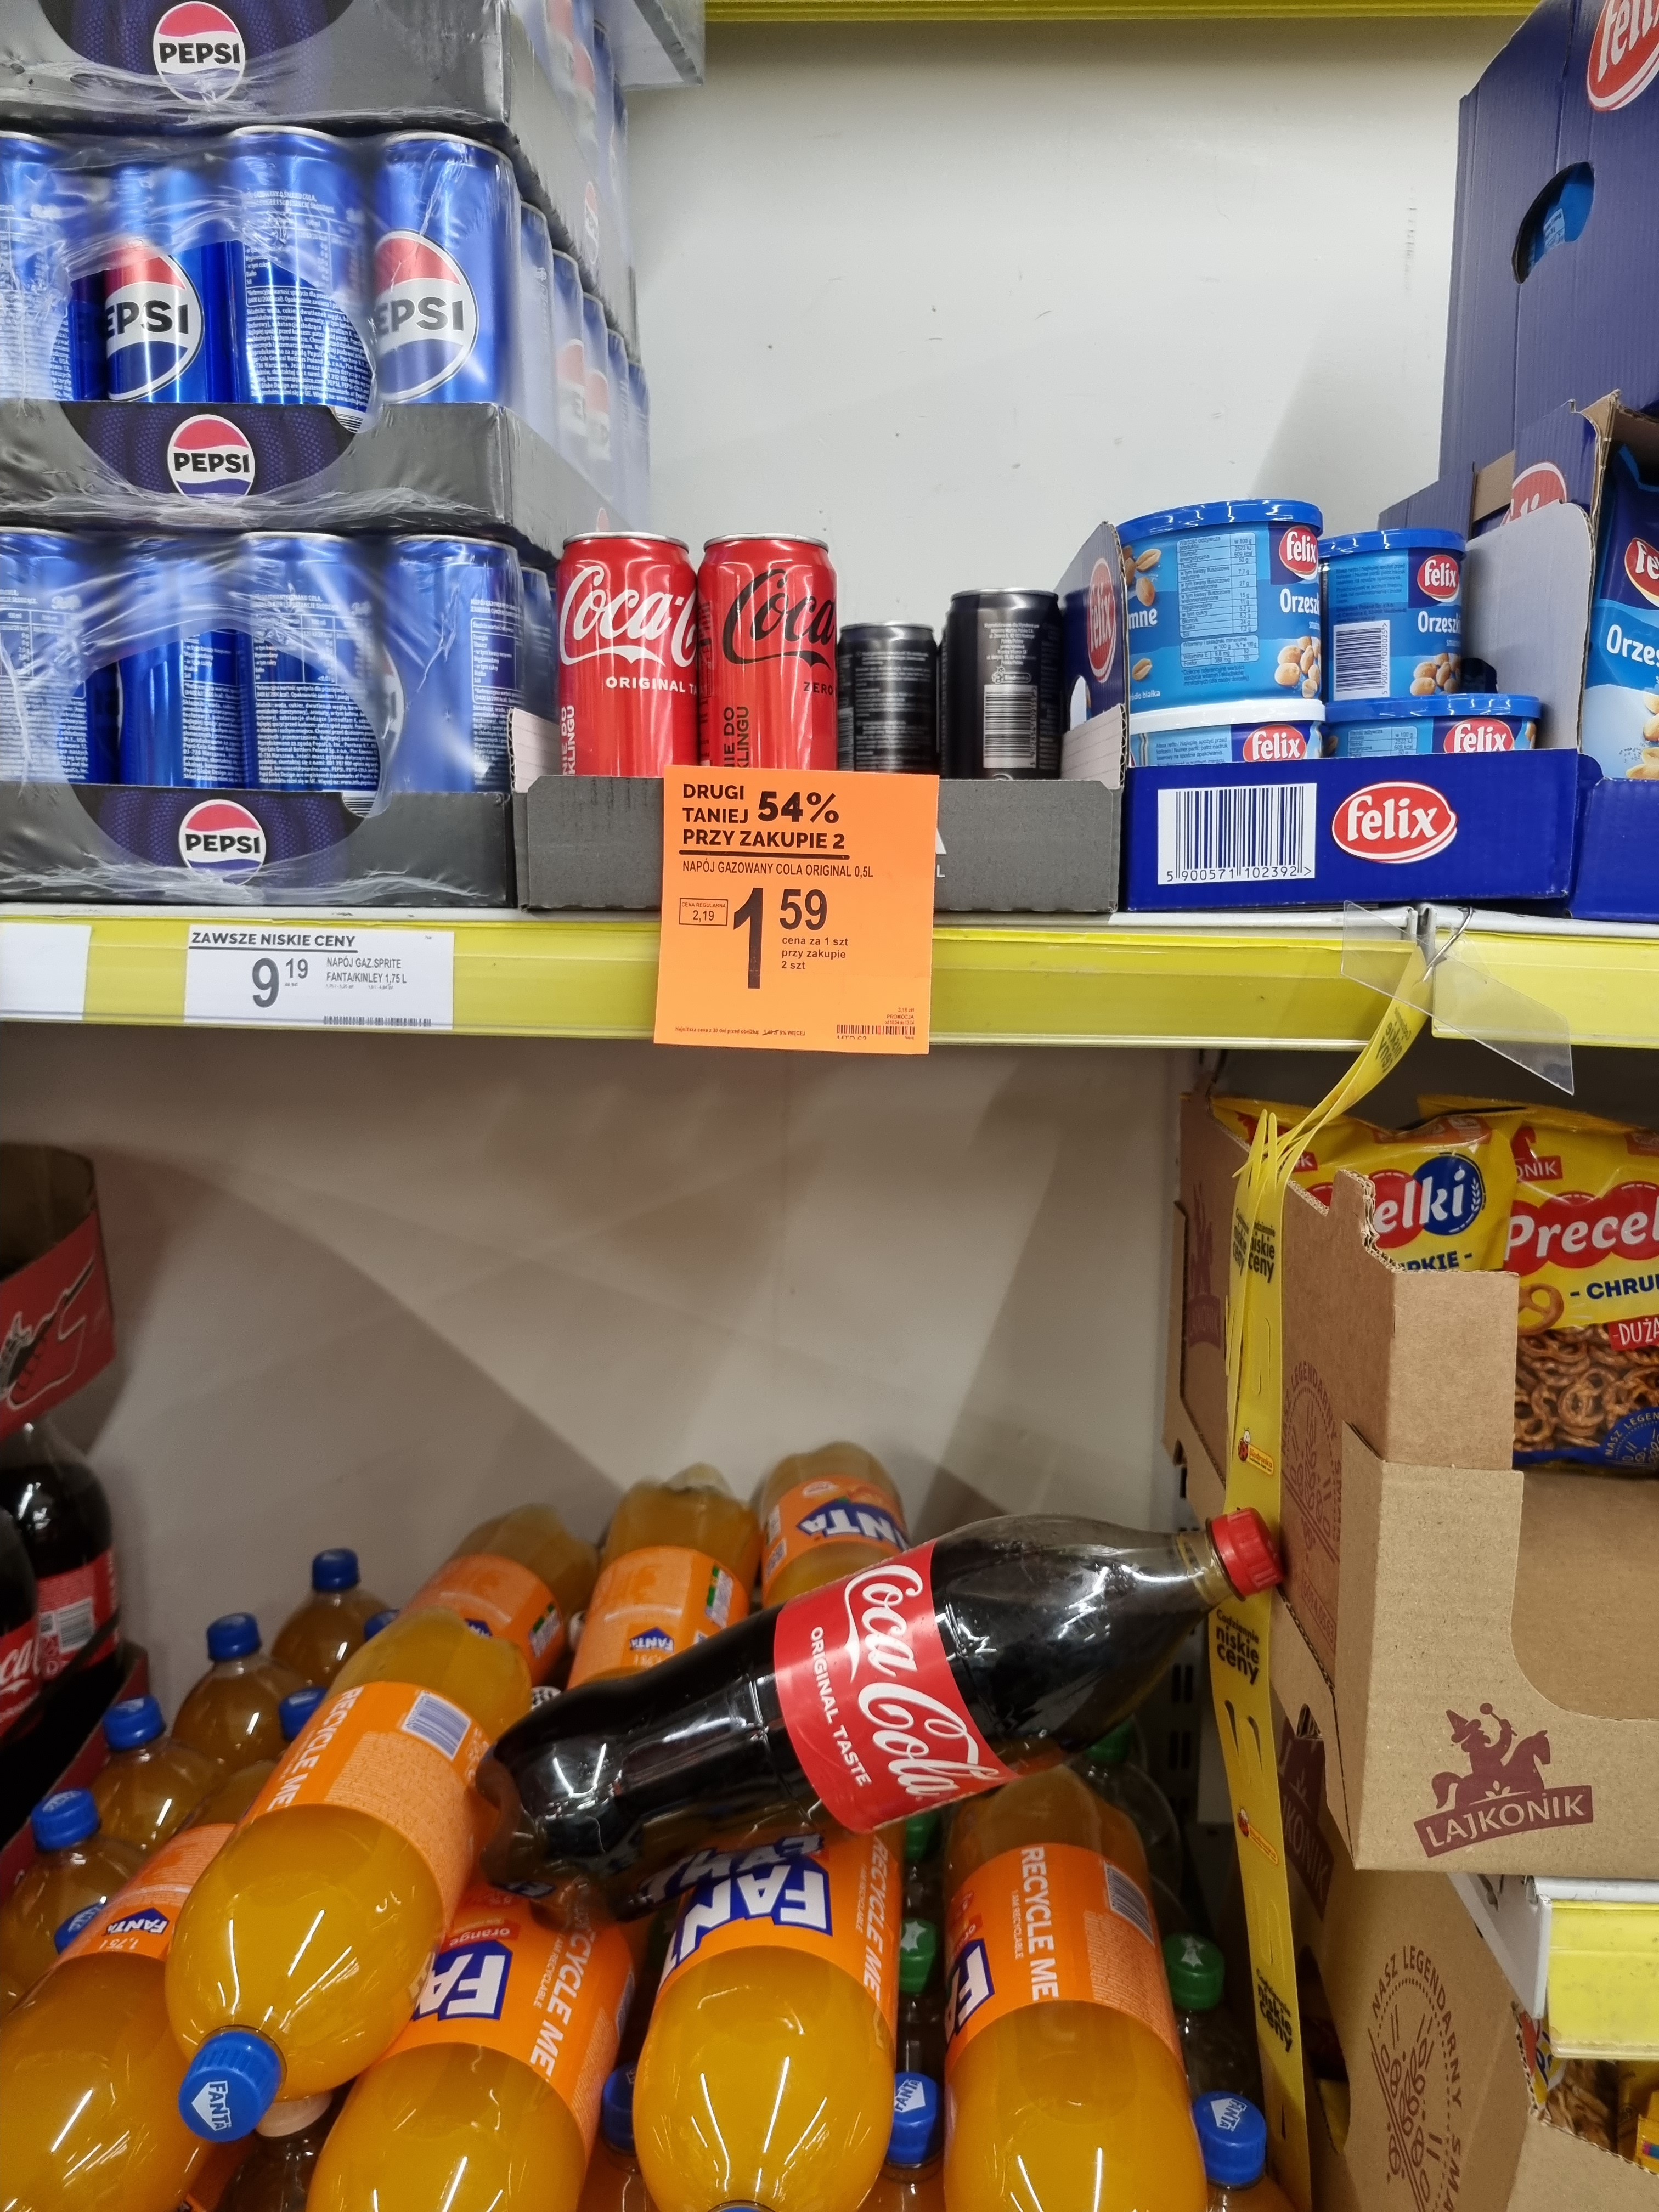Coca Cola: (460, 1493, 1295, 1918), (537, 516, 709, 840), (697, 542, 857, 773), (0, 1406, 124, 1702)
